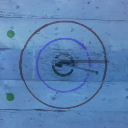Axe Tip: (60, 61, 70, 64)
